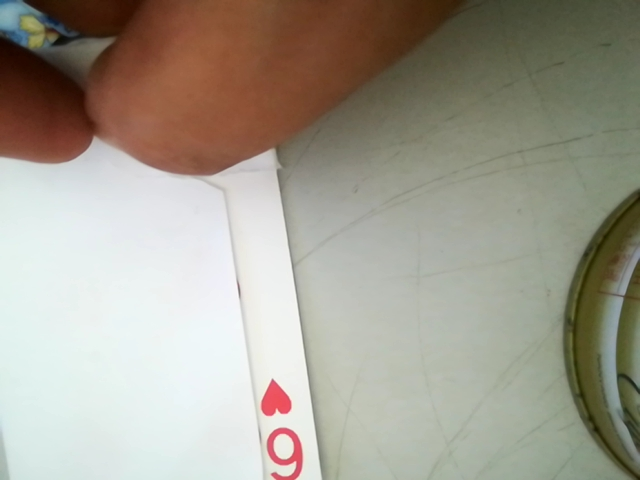hx 6: (243, 372, 310, 479)
